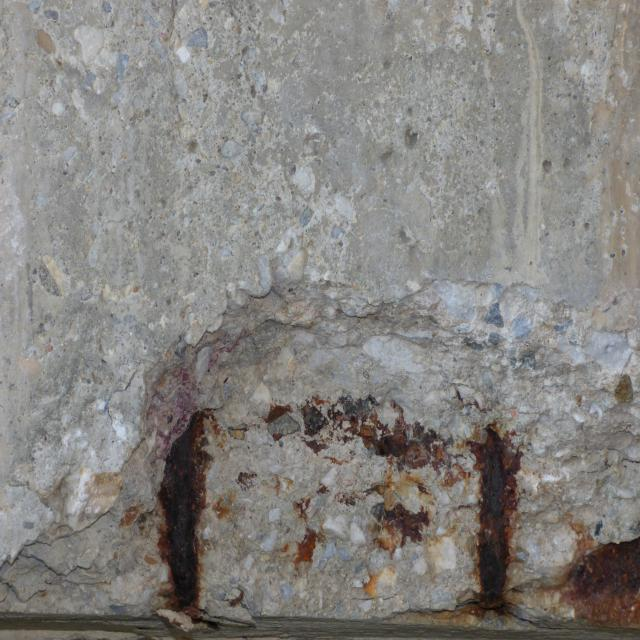corrosion: (135, 378, 640, 640)
